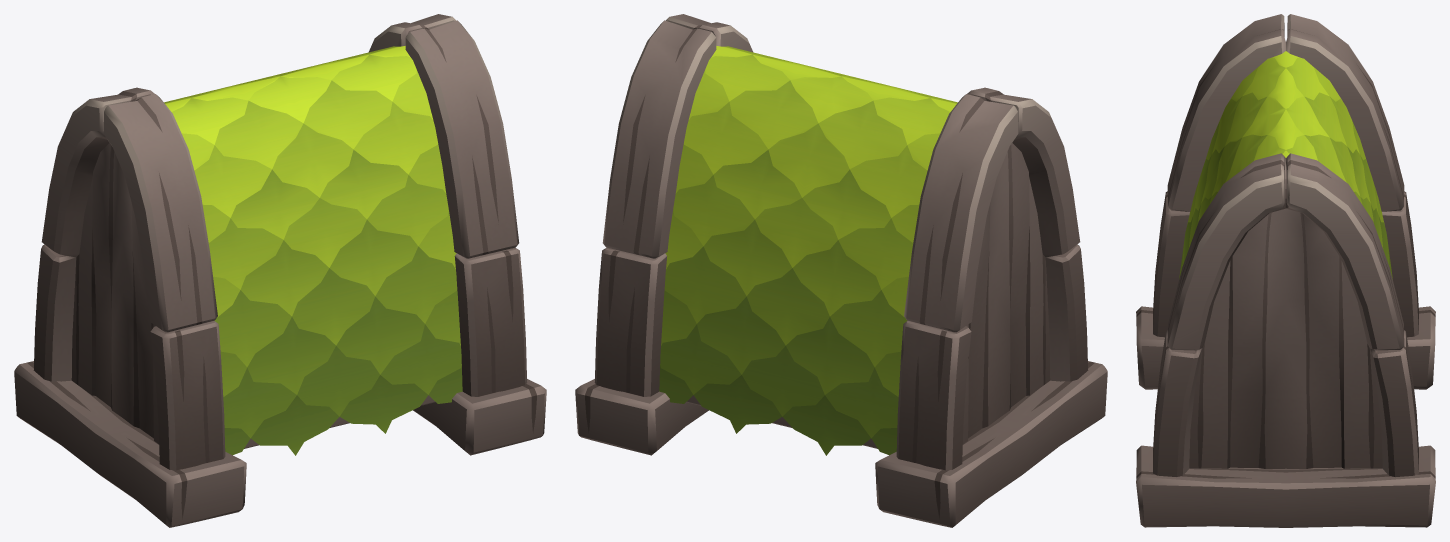
The model's file is elf_building.fbx.
3 views of the same model, side by side, from view 1: azimuth 30°, elevation 25°; view 2: azimuth 150°, elevation 25°; view 3: azimuth 270°, elevation 25° (orthographic). The views are drawn at different scales.
Parts seen in each view (by area): view 1: elf_building; view 2: elf_building; view 3: elf_building.
Part boxes in pixels (box(x1,y1,x2,y2)): elf_building: box(14, 14, 546, 527); elf_building: box(575, 14, 1107, 527); elf_building: box(1136, 14, 1435, 527).
Bounding box in the file's own units: 613 × 569 × 442.
